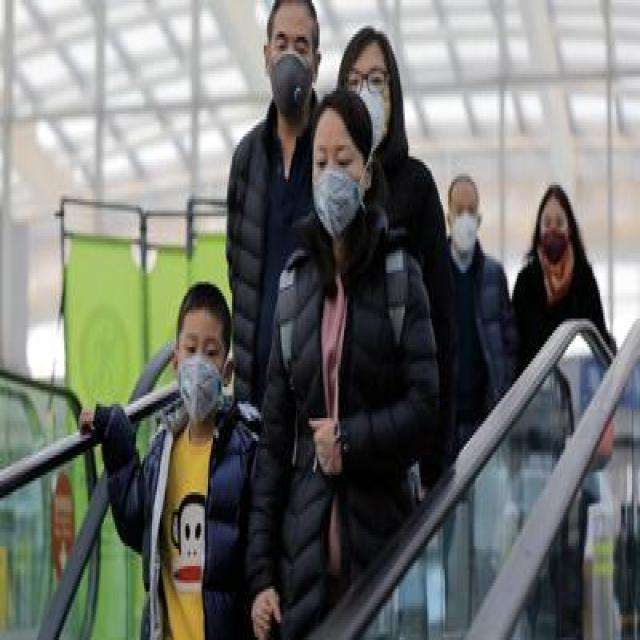with_mask: (310, 135, 369, 243), (174, 325, 227, 425), (268, 24, 318, 118), (345, 58, 393, 152), (446, 194, 479, 257), (539, 206, 571, 268)
